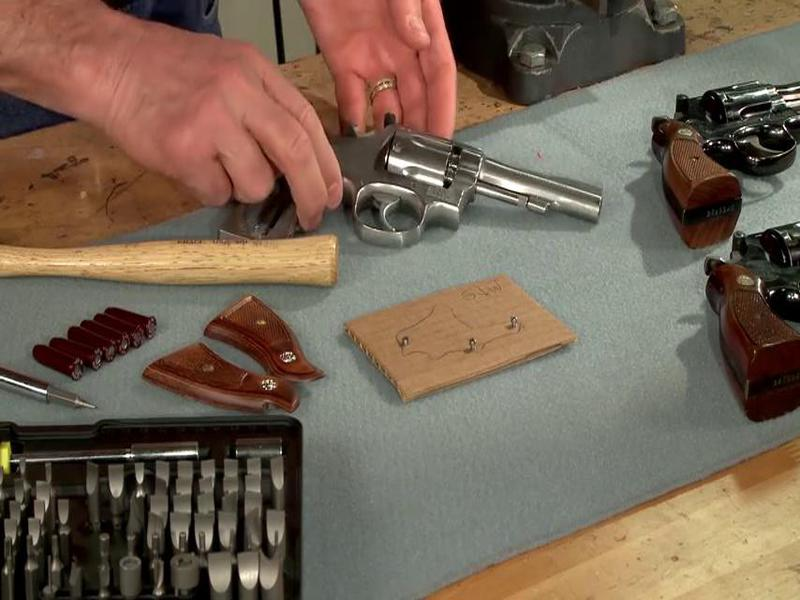Revolver: (227, 82, 616, 313)
